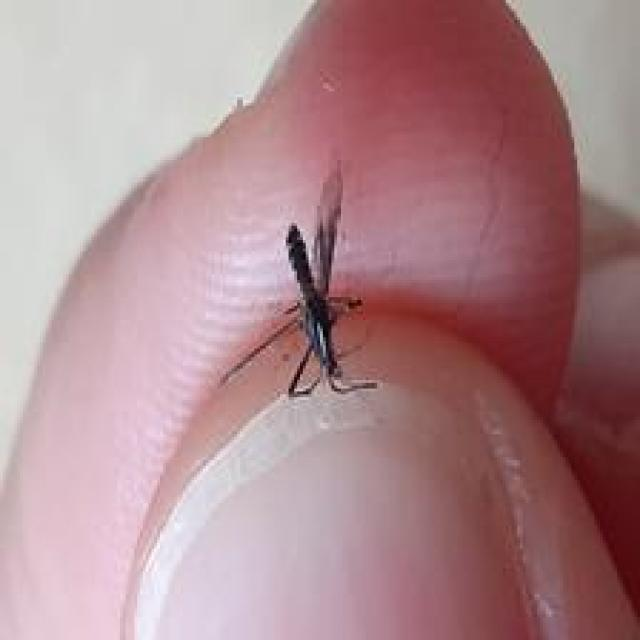Aedes albopictus: (217, 160, 380, 400)
